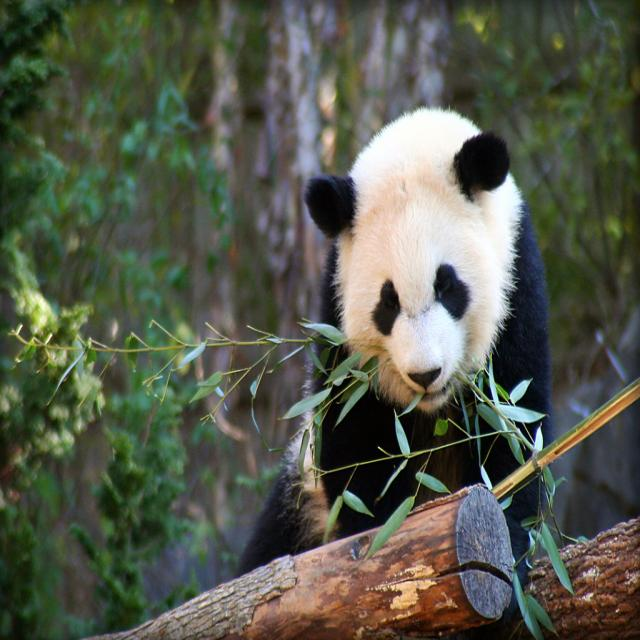panda: (234, 93, 555, 639)
